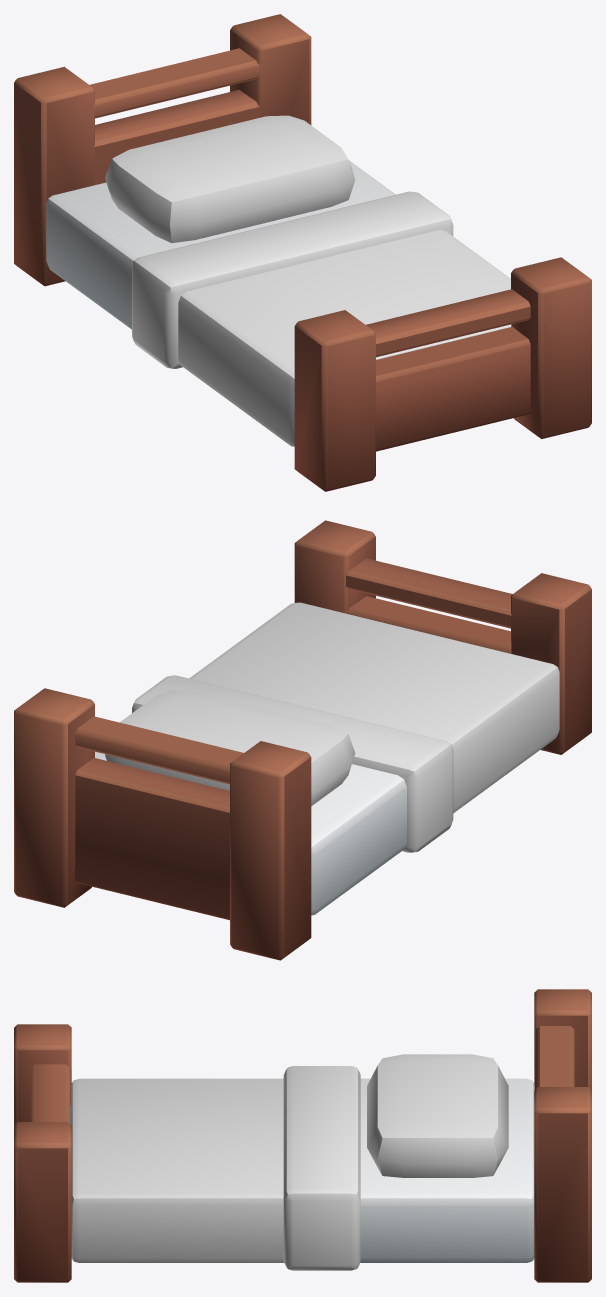
The model's file is bedSingleB.glb.
The picture shows the model from 3 angles, top to bottom: view 1: azimuth 30°, elevation 25°; view 2: azimuth 150°, elevation 25°; view 3: azimuth 270°, elevation 25°; orthographic projection. The views are drawn at different scales.
Parts seen in each view (by area): view 1: bedSingleB_base, bedSingleB_colourA, bedSingleB_colourB, bedSingleB_base_white; view 2: bedSingleB_base, bedSingleB_colourA, bedSingleB_colourB, bedSingleB_base_white; view 3: bedSingleB_colourA, bedSingleB_base, bedSingleB_base_white, bedSingleB_colourB.
Part boxes in pixels (<box>): bedSingleB_base: <box>14,14,591,491</box>; bedSingleB_colourA: <box>132,191,511,446</box>; bedSingleB_colourB: <box>105,115,355,243</box>; bedSingleB_base_white: <box>46,160,395,329</box>; bedSingleB_base: <box>14,520,591,960</box>; bedSingleB_colourA: <box>132,602,559,852</box>; bedSingleB_colourB: <box>105,690,355,805</box>; bedSingleB_base_white: <box>95,751,406,915</box>; bedSingleB_colourA: <box>70,1066,360,1270</box>; bedSingleB_base: <box>14,989,591,1282</box>; bedSingleB_base_white: <box>360,1078,534,1262</box>; bedSingleB_colourB: <box>367,1054,508,1177</box>.
Size of the model in its own units: 1.6 by 1 by 3.
3 materials, 1 textured.
